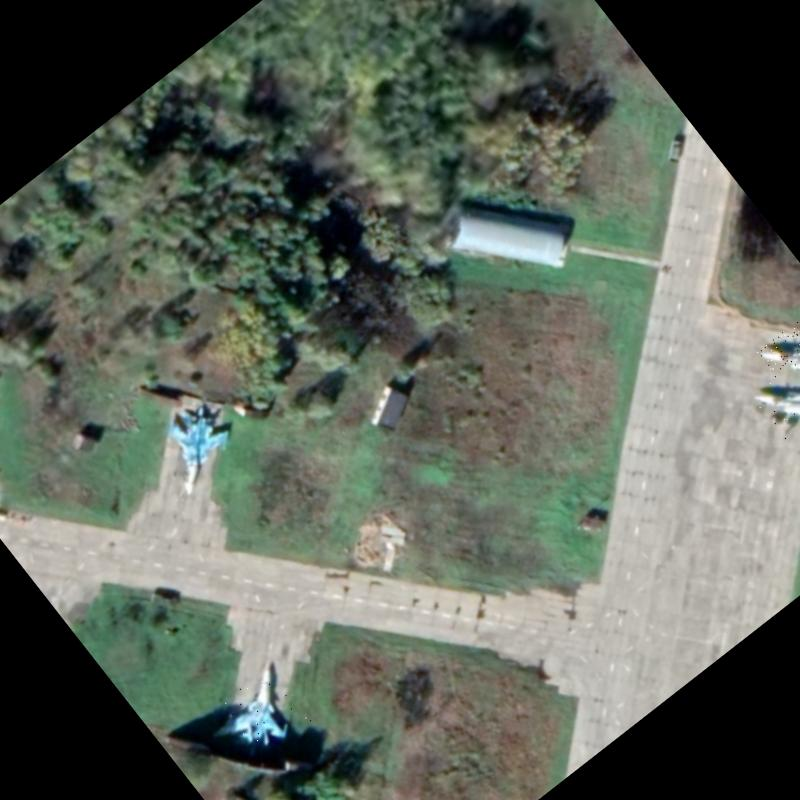A19: (142, 392, 249, 498), (205, 664, 312, 770)
A20: (750, 350, 800, 455), (757, 306, 800, 411)
